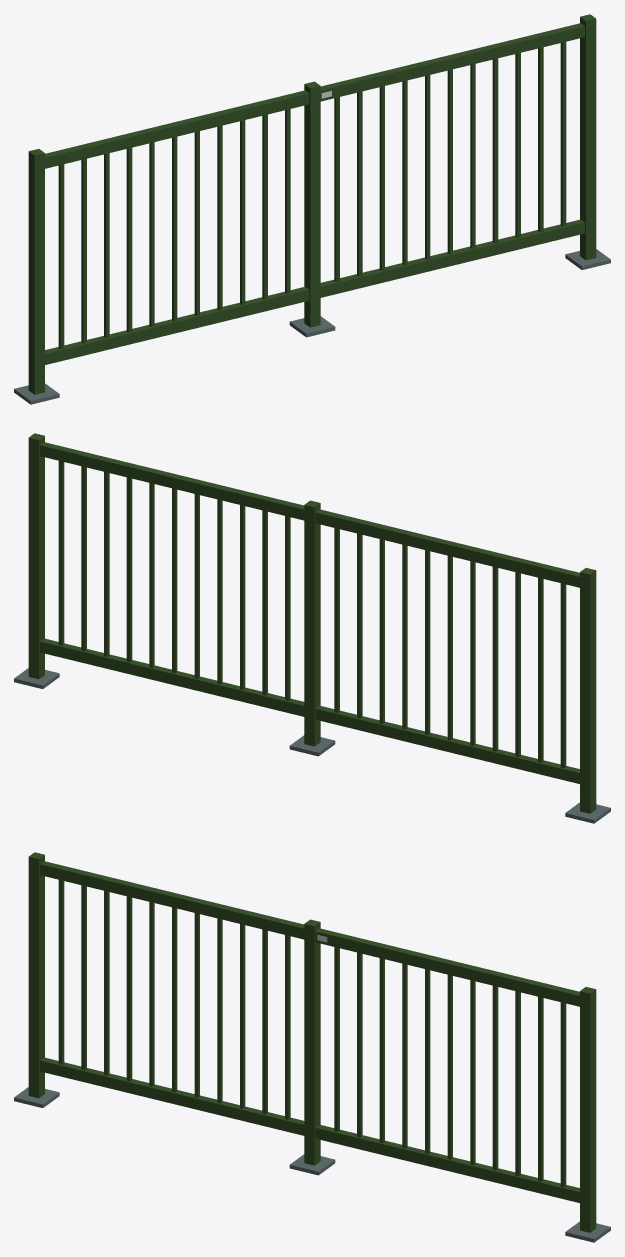
File: sg-guard-rail-3m.glb
The picture shows the model from 3 angles, top to bottom: view 1: azimuth 30°, elevation 25°; view 2: azimuth 150°, elevation 25°; view 3: azimuth 330°, elevation 25°; orthographic projection.
Visible parts, largest first — view 1: vertical_pickets, horizontal_rails, posts, anchor_plates; view 2: vertical_pickets, horizontal_rails, posts, anchor_plates; view 3: vertical_pickets, horizontal_rails, posts, anchor_plates.
Part boxes in pixels (x1,y1,x2,y2): vertical_pickets: (58, 42, 566, 349); horizontal_rails: (45, 23, 584, 364); posts: (28, 14, 596, 394); anchor_plates: (14, 249, 610, 404); vertical_pickets: (58, 461, 566, 768); horizontal_rails: (40, 442, 579, 783); posts: (28, 433, 596, 813); anchor_plates: (14, 668, 610, 823); vertical_pickets: (58, 880, 566, 1187); horizontal_rails: (40, 861, 579, 1202); posts: (28, 852, 596, 1232); anchor_plates: (14, 1087, 610, 1242).
Bounding box in the file's own units: 3 × 1.2 × 0.15.
